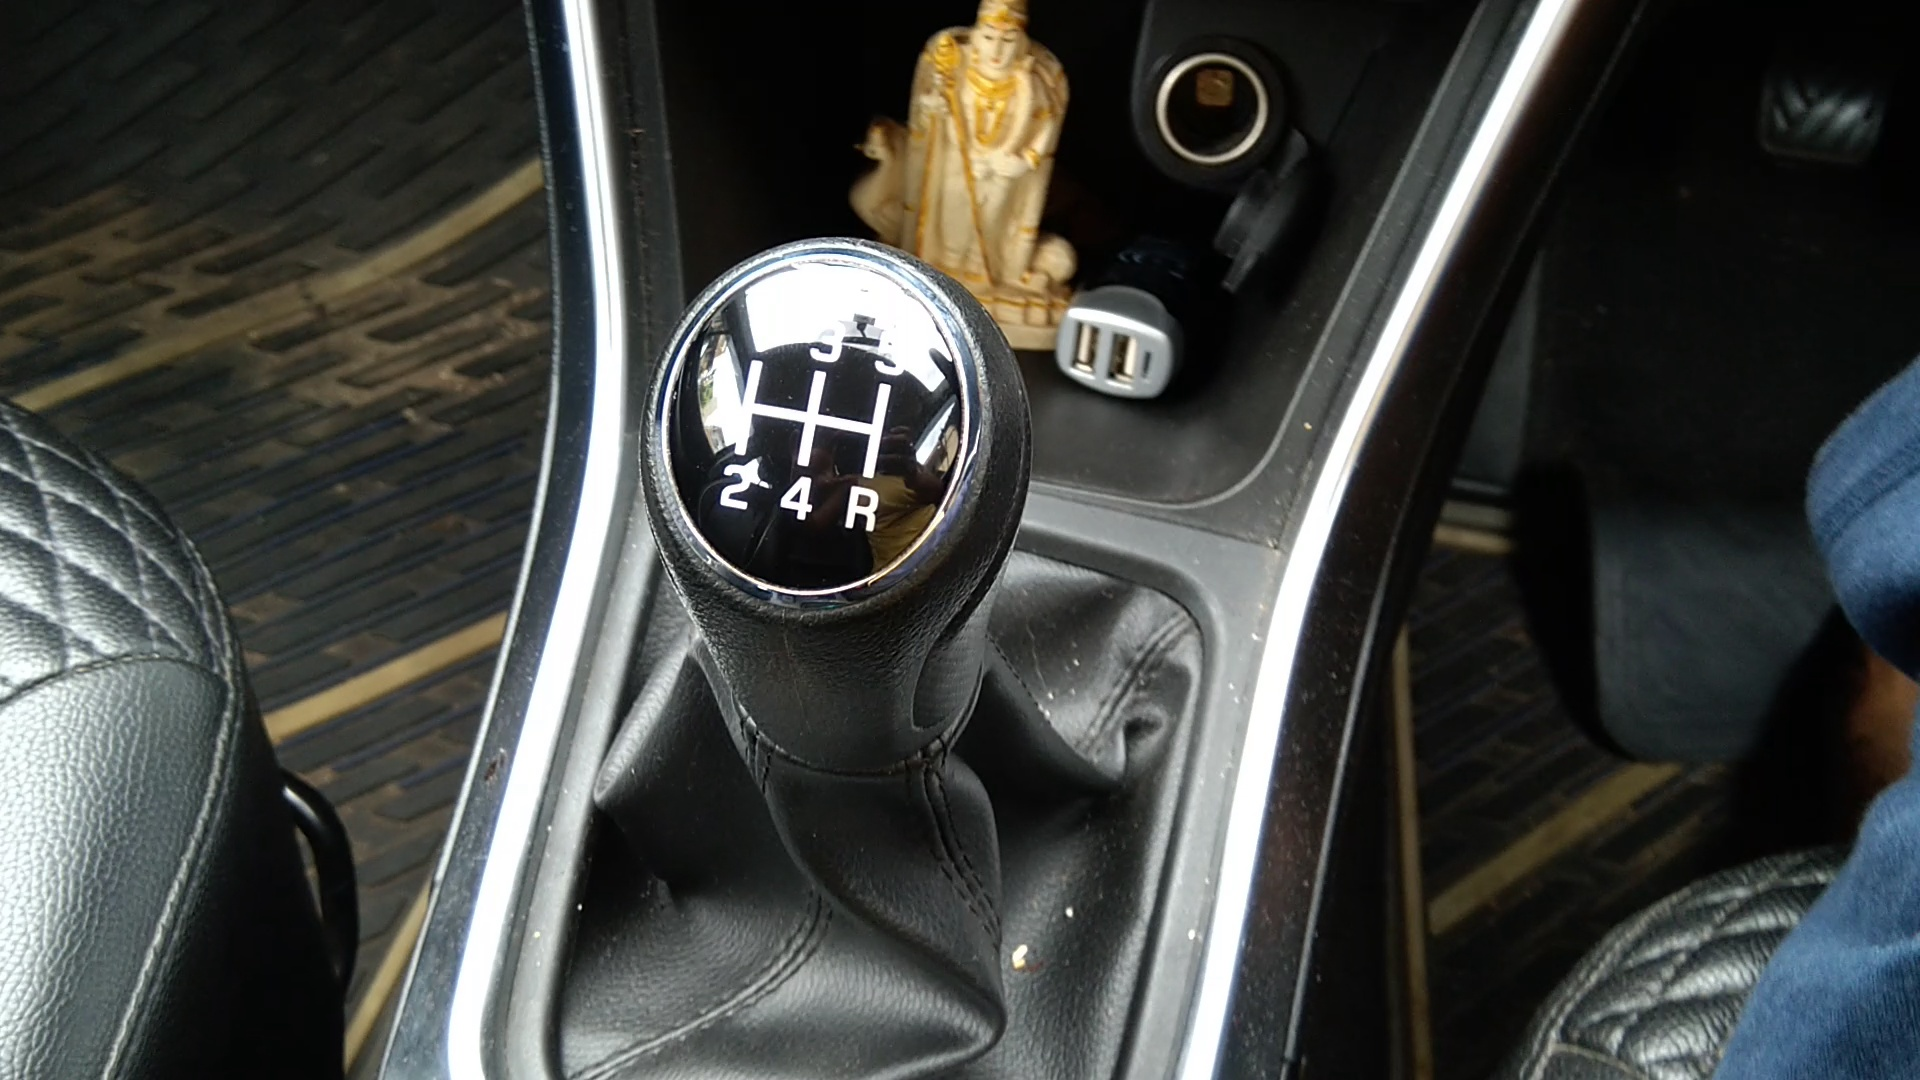manual_gear: (636, 218, 1046, 952)
